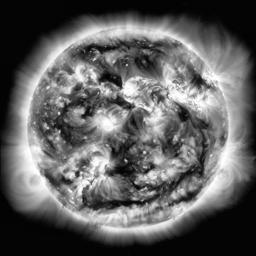solar flares: (161, 73, 188, 107), (83, 145, 104, 182), (93, 112, 120, 137), (139, 169, 175, 185), (118, 79, 142, 101), (142, 104, 161, 129), (72, 65, 91, 86), (187, 90, 208, 109), (151, 156, 163, 165)
sunspots: (92, 191, 144, 208), (84, 43, 160, 53), (55, 115, 79, 143), (115, 148, 138, 176), (97, 71, 123, 90), (73, 93, 94, 115), (164, 132, 181, 159), (136, 55, 156, 76), (199, 131, 207, 181), (122, 110, 140, 131), (190, 68, 206, 90), (47, 172, 75, 181), (175, 192, 192, 203), (176, 109, 189, 121), (193, 120, 206, 129)
